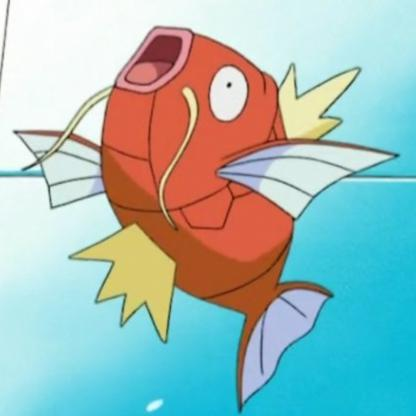Magikarp: (44, 38, 408, 411)
